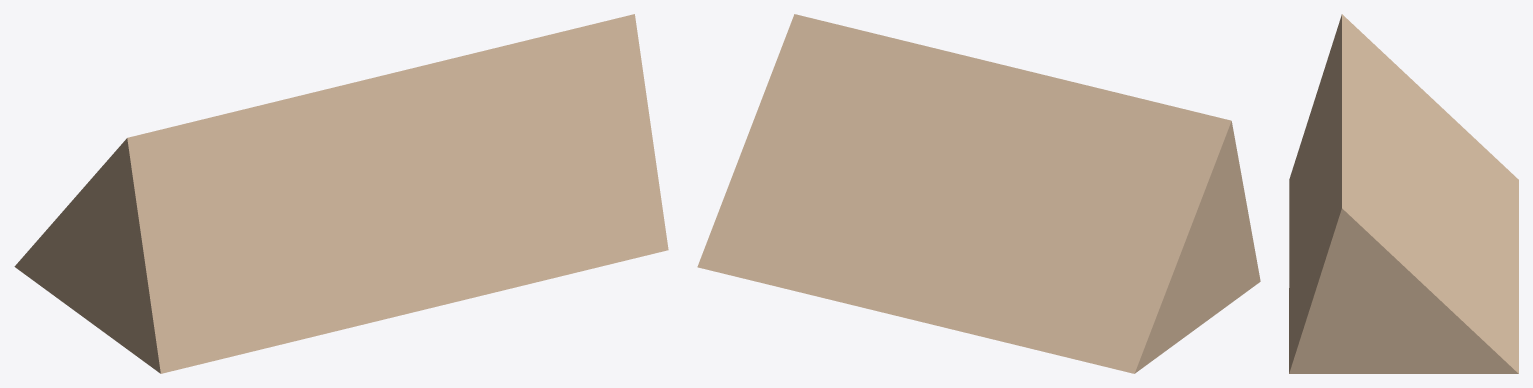
File: Ship_Light_Half_Strip.fbx
3 renders of one model, left to right at view 1: azimuth 30°, elevation 25°; view 2: azimuth 150°, elevation 25°; view 3: azimuth 270°, elevation 25°, orthographic. The views are drawn at different scales.
Parts seen in each view (by area): view 1: Ship_Light_Half_Strip; view 2: Ship_Light_Half_Strip; view 3: Ship_Light_Half_Strip.
Part boxes in pixels (bbox=[...]): Ship_Light_Half_Strip: bbox=[14, 14, 668, 373]; Ship_Light_Half_Strip: bbox=[697, 14, 1260, 373]; Ship_Light_Half_Strip: bbox=[1289, 14, 1518, 373].
Size of the model in its own units: 50 by 19.91 by 25.
